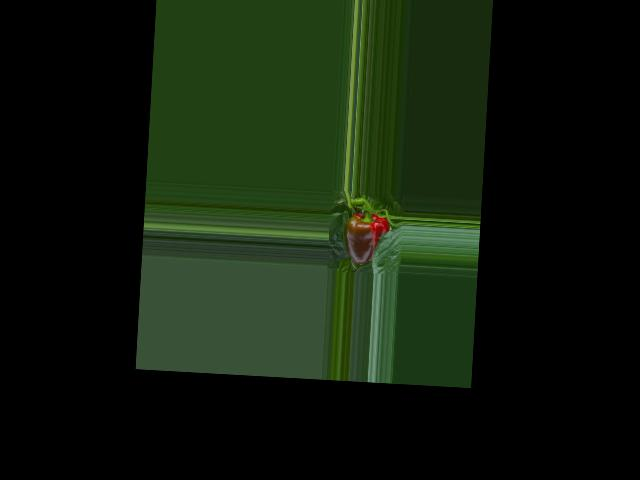bell_pepper: (337, 205, 392, 268)
